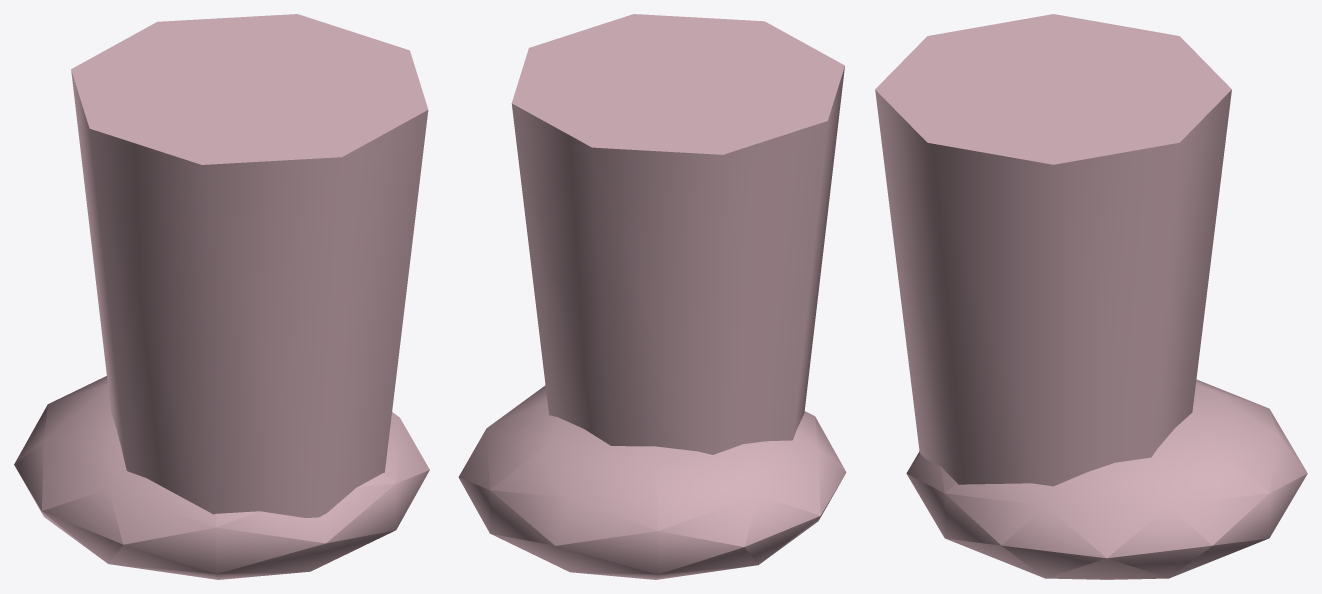
Rendered from axolotl_leg.glb.
3 views of the same model, side by side, from view 1: azimuth 30°, elevation 25°; view 2: azimuth 150°, elevation 25°; view 3: azimuth 270°, elevation 25° (orthographic). The views are drawn at different scales.
Parts seen in each view (by area): view 1: axolotl_leg; view 2: axolotl_leg; view 3: axolotl_leg.
Boxes of the visible parts, x1,y1,x2,y2 form: axolotl_leg: (14, 14, 429, 579); axolotl_leg: (458, 14, 846, 579); axolotl_leg: (875, 14, 1307, 579).
Bounding box in the file's own units: 0.09 × 0.113 × 0.097.
